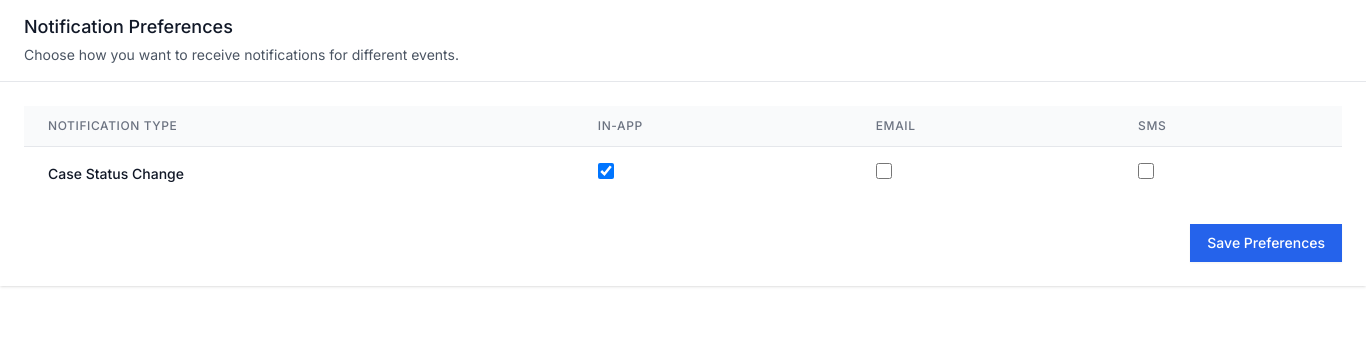
Test case: NotificationPreferences › should handle API errors when saving preferences
The width and height of the screenshot is (1366, 356).
Check: the heading "Notification Preferences" is shown, box left=24, top=16, right=233, bottom=37
# Save preferences
Step 1. Click the button "Save Preferences" → coordinates (1266, 243), box left=1190, top=224, right=1342, bottom=262
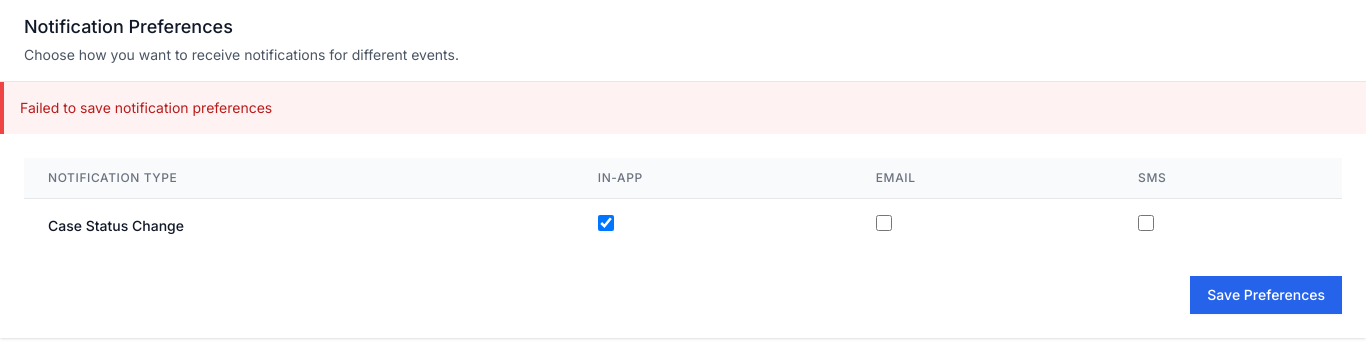
Check: the text "Failed to save notification preferences" is shown, box left=20, top=99, right=272, bottom=116
